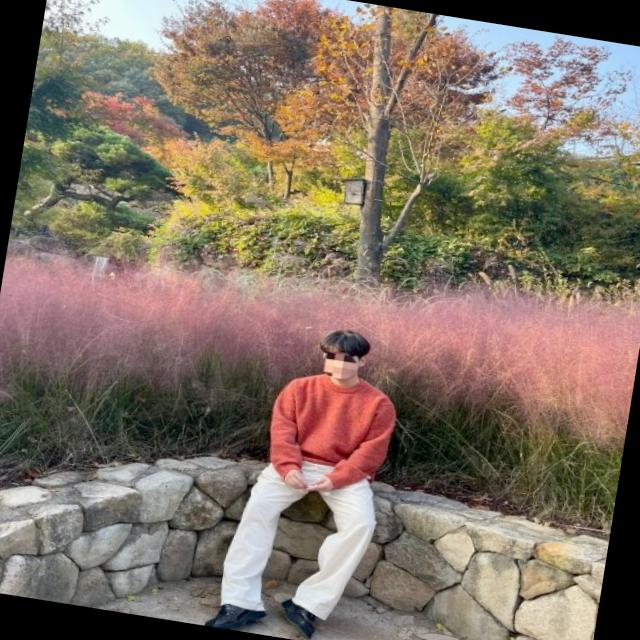cottonpants: (215, 450, 384, 628)
sweater: (260, 362, 404, 496)
